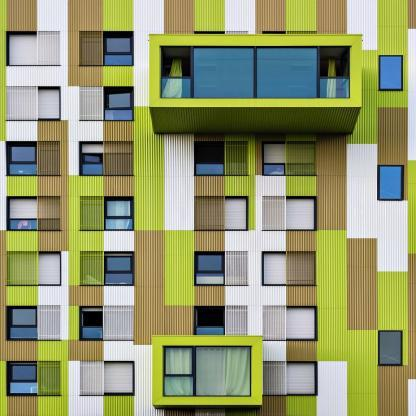Balcony: (149, 34, 362, 135), (152, 336, 264, 409)
Building Outline: (1, 0, 416, 416)
Facade: (1, 0, 416, 416)
Floor: (0, 0, 415, 75), (1, 354, 416, 409), (1, 190, 416, 242), (1, 80, 416, 131), (1, 135, 416, 186), (1, 299, 416, 349), (1, 246, 416, 295)
Floor Slab: (1, 350, 416, 354), (1, 131, 416, 135), (1, 243, 416, 247), (1, 295, 416, 299), (1, 76, 416, 80), (1, 186, 416, 190), (1, 408, 416, 412)
Window: (159, 47, 350, 99), (163, 346, 252, 397), (79, 86, 134, 121), (6, 361, 61, 396), (194, 31, 249, 66), (263, 31, 318, 66), (79, 141, 134, 176), (193, 196, 248, 231), (262, 196, 317, 231), (79, 196, 134, 231), (6, 251, 61, 286), (6, 306, 61, 341), (79, 31, 134, 66), (193, 141, 248, 176), (262, 141, 317, 176), (263, 361, 317, 396), (6, 31, 60, 66), (6, 86, 60, 121), (80, 361, 134, 396), (6, 141, 60, 176), (6, 196, 60, 231), (194, 251, 248, 286), (263, 251, 317, 286), (80, 251, 134, 286), (194, 306, 248, 341), (263, 306, 317, 341), (80, 306, 134, 341), (378, 166, 404, 200), (378, 55, 403, 90), (379, 331, 403, 365)
